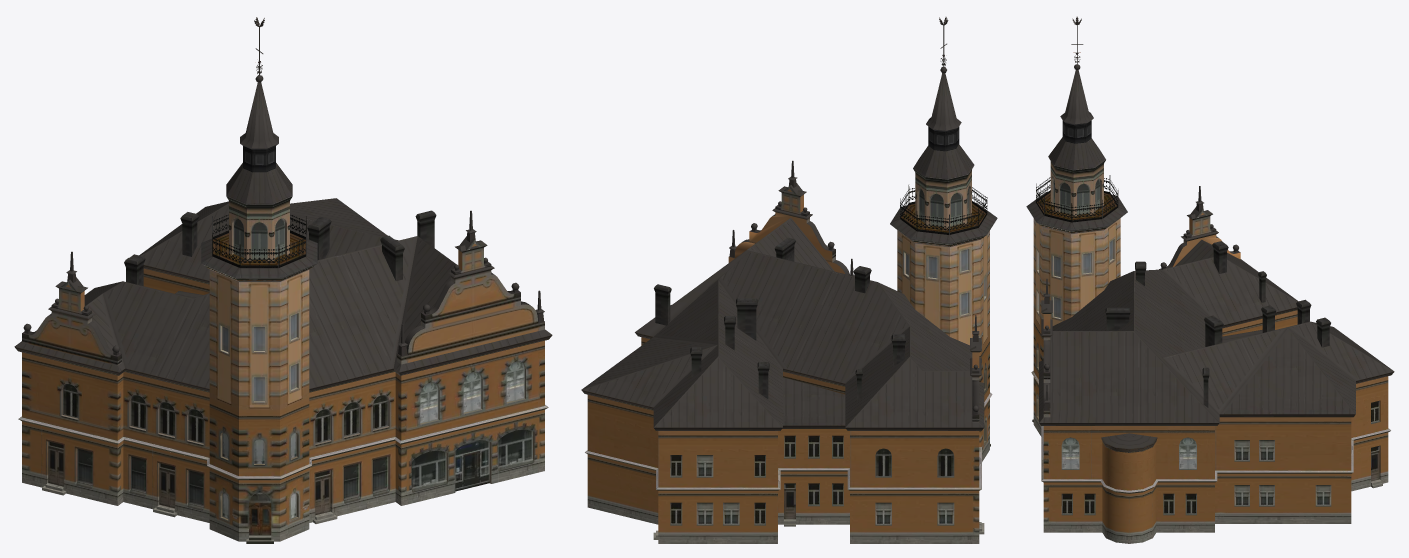
File: cityhall.glb
3 renders of one model, left to right at view 1: azimuth 30°, elevation 25°; view 2: azimuth 150°, elevation 25°; view 3: azimuth 270°, elevation 25°, orthographic. The views are drawn at different scales.
Parts seen in each view (by area): view 1: Main_skp_front_default_0; view 2: Main_skp_front_default_0; view 3: Main_skp_front_default_0.
Part boxes in pixels (<box>): Main_skp_front_default_0: <box>14,17,552,543</box>; Main_skp_front_default_0: <box>581,17,997,543</box>; Main_skp_front_default_0: <box>1026,16,1394,543</box>.
Size of the model in its own units: 3688 by 4017 by 3264.
Materials: 1 (1 with a texture image).
